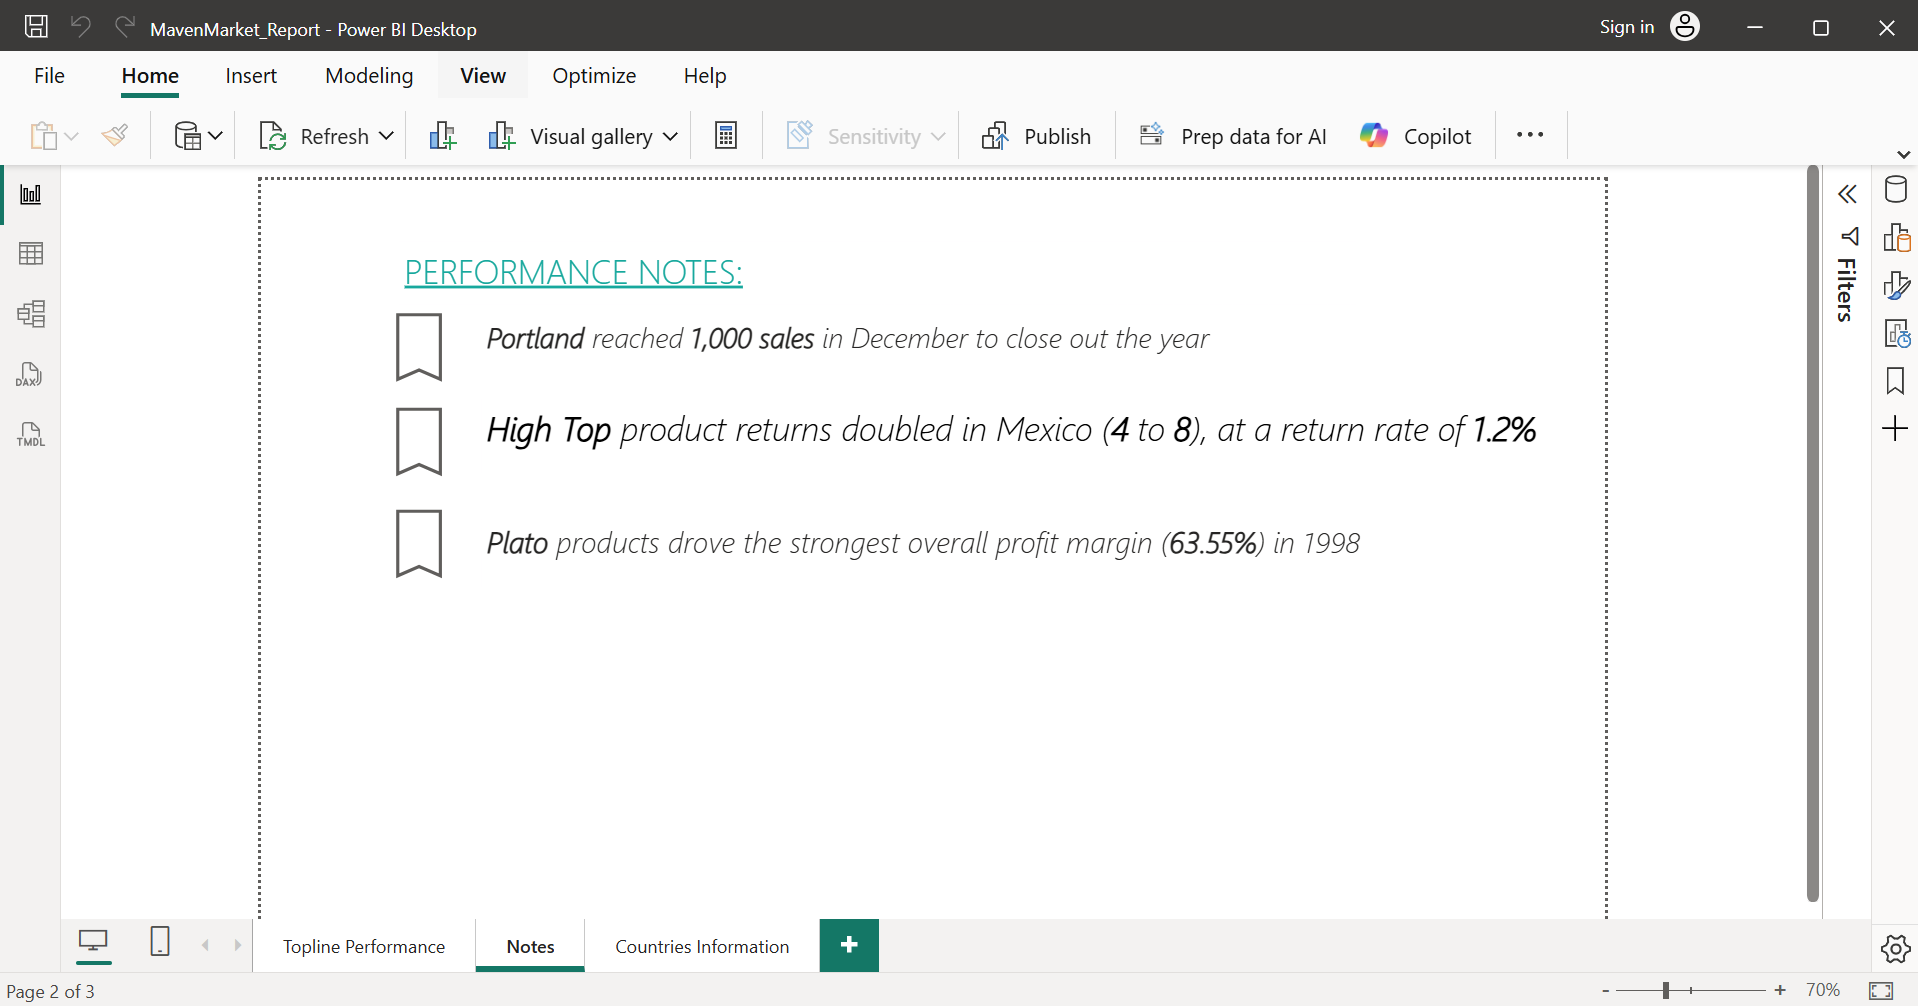

What the dashboard file says about the page in this screenshot:
{"tool":"powerbi","page":{"name":"Notes","canvas":[1280,720],"ordinal":1},"visuals":[{"type":"textbox","box":[132,58,911,60],"z":0},{"type":"actionButton","box":[110.1,118.2,107.5,81.5],"z":1000},{"type":"textbox","box":[210.4,125.4,898.2,65.4],"z":2000},{"type":"actionButton","box":[110.1,208.7,107.5,81.5],"z":3000},{"type":"actionButton","box":[110.1,305.4,107.5,81.5],"z":4000},{"type":"textbox","box":[210.4,208.7,1028.1,70.7],"z":4001},{"type":"textbox","box":[210.4,319.7,1028.1,67.2],"z":4002}]}

Visuals, with their boxes on the page's 1280x720 design canvas (x1, y1, x2, y2). These are canvas units, not pixel positions in the 1918x1006 screenshot, which may show the page scaled, cropped or inside an application window:
textbox: [132,58,1043,118]
actionButton: [110,118,218,200]
textbox: [210,125,1109,191]
actionButton: [110,209,218,290]
actionButton: [110,305,218,387]
textbox: [210,209,1238,279]
textbox: [210,320,1238,387]
